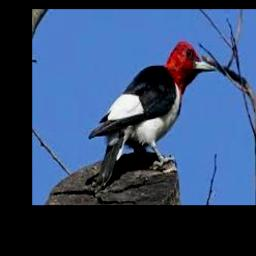Woodpecker: (89, 41, 217, 186)
